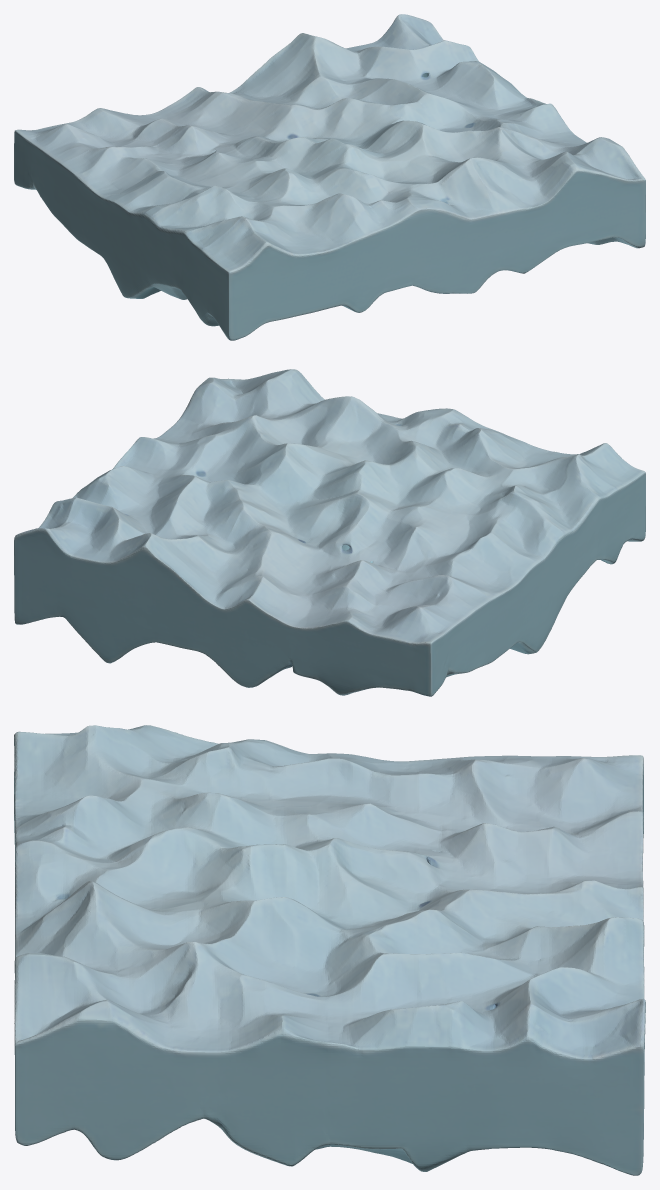
The model's file is mountain.glb.
3 views of the same model, one above another, from view 1: azimuth 30°, elevation 25°; view 2: azimuth 150°, elevation 25°; view 3: azimuth 270°, elevation 25° (orthographic). The views are drawn at different scales.
Visible parts, largest first — view 1: world; view 2: world; view 3: world.
Boxes of the visible parts, bbox=[...] form: world: bbox=[14, 14, 645, 340]; world: bbox=[14, 369, 645, 696]; world: bbox=[14, 725, 645, 1175].
Bounding box in the file's own units: 0.999 × 0.3328 × 0.8942.
